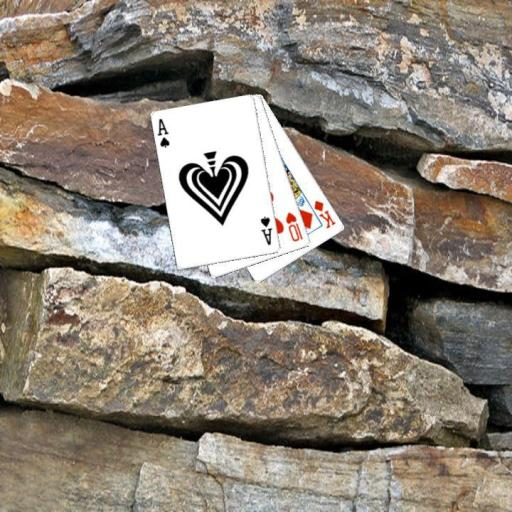10H: (283, 209, 304, 243)
AS: (257, 213, 274, 247), (155, 116, 172, 150)
KD: (311, 197, 337, 230)
